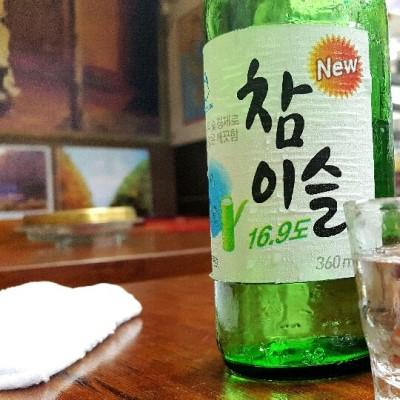soju: (196, 3, 396, 382)
